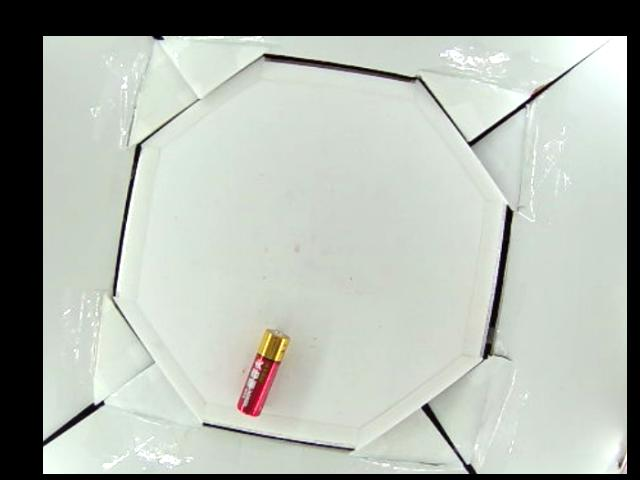Battery: (234, 329, 288, 419)
